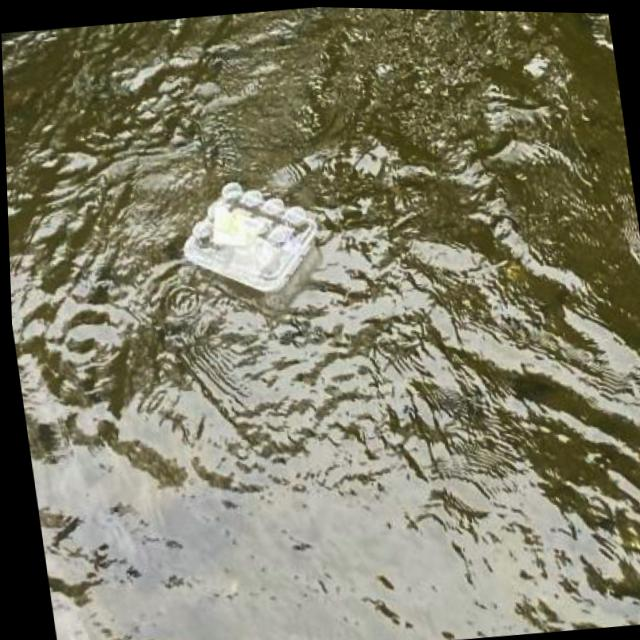Plastic: (162, 158, 330, 314)
